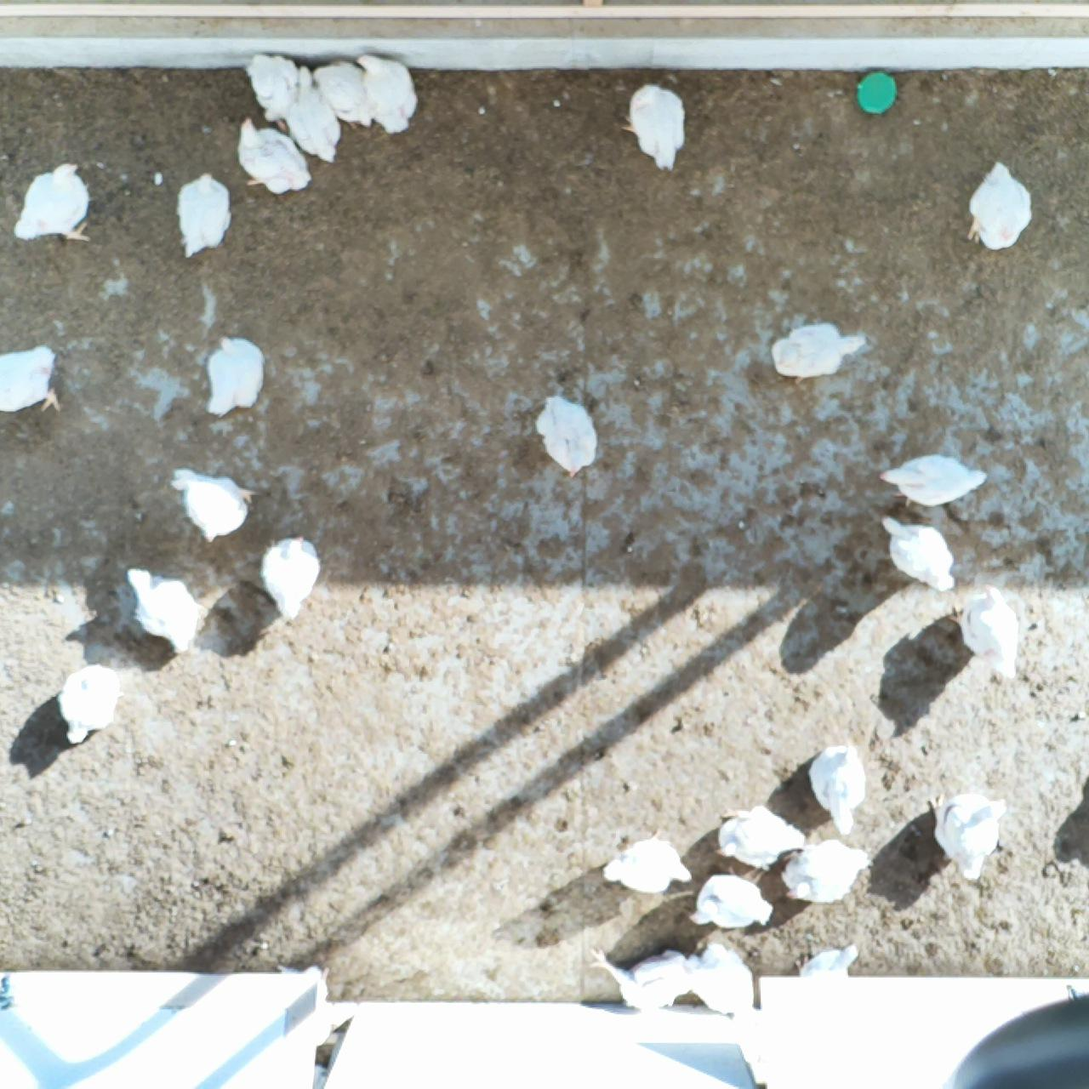chicken: (924, 787, 1009, 884), (587, 941, 701, 1013), (122, 565, 207, 656), (167, 463, 258, 545), (947, 584, 1021, 683), (767, 320, 868, 390), (12, 161, 94, 246), (233, 115, 315, 197), (965, 159, 1038, 251), (878, 450, 989, 510), (619, 82, 690, 174), (712, 804, 807, 872), (602, 826, 695, 895), (879, 513, 958, 593), (780, 837, 872, 905), (685, 865, 777, 932), (260, 530, 324, 624), (805, 742, 868, 837), (56, 662, 127, 746), (684, 942, 761, 1019), (283, 65, 342, 165), (201, 333, 267, 422), (533, 392, 599, 480), (354, 53, 422, 138), (174, 169, 236, 259), (312, 59, 378, 130), (0, 344, 66, 415), (244, 48, 300, 129), (278, 959, 334, 1039), (796, 942, 862, 979)
